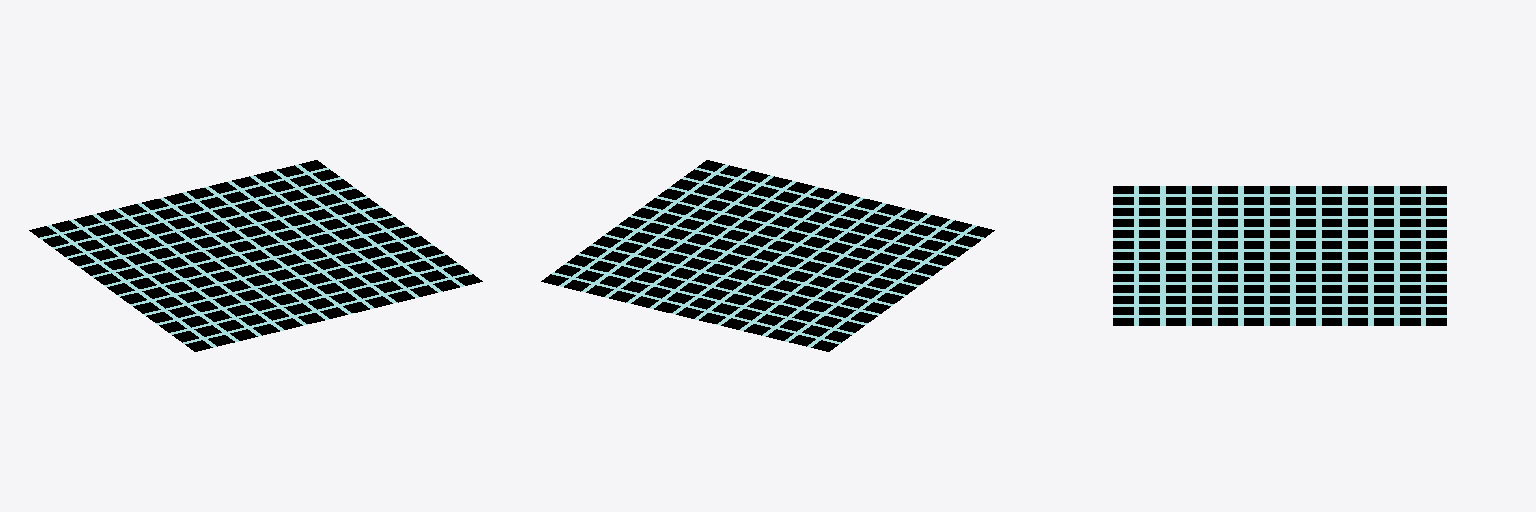
The picture shows the model from 3 angles: view 1: azimuth 30°, elevation 25°; view 2: azimuth 150°, elevation 25°; view 3: azimuth 270°, elevation 25°; orthographic projection.
Size of the model in its own units: 19.58 by 0 by 19.58.
Materials: 1 (1 with a texture image).